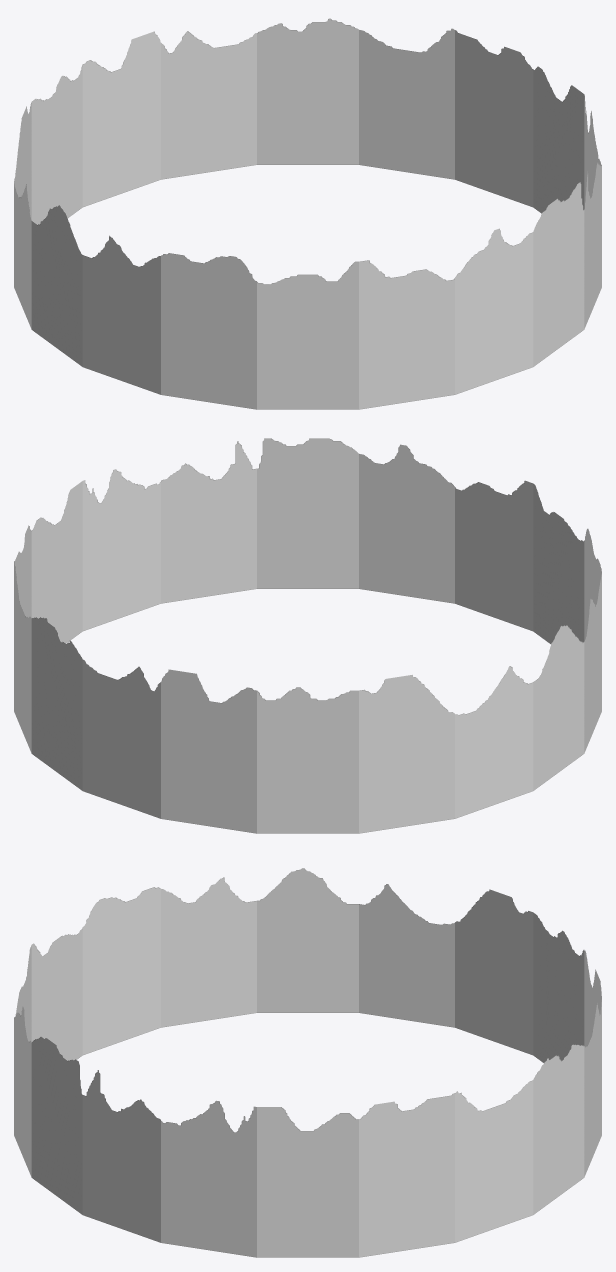
File: circular_area_pylon.fbx
3 views of the same model, one above another, from view 1: azimuth 30°, elevation 25°; view 2: azimuth 150°, elevation 25°; view 3: azimuth 270°, elevation 25° (orthographic).
Visible parts, largest first — view 1: Circle; view 2: Circle; view 3: Circle.
Part boxes in pixels (x1=…): Circle: x1=14, y1=18, x2=601, y2=409; Circle: x1=14, y1=438, x2=601, y2=833; Circle: x1=14, y1=868, x2=601, y2=1257.
Bounding box in the file's own units: 197 × 56.55 × 200.
